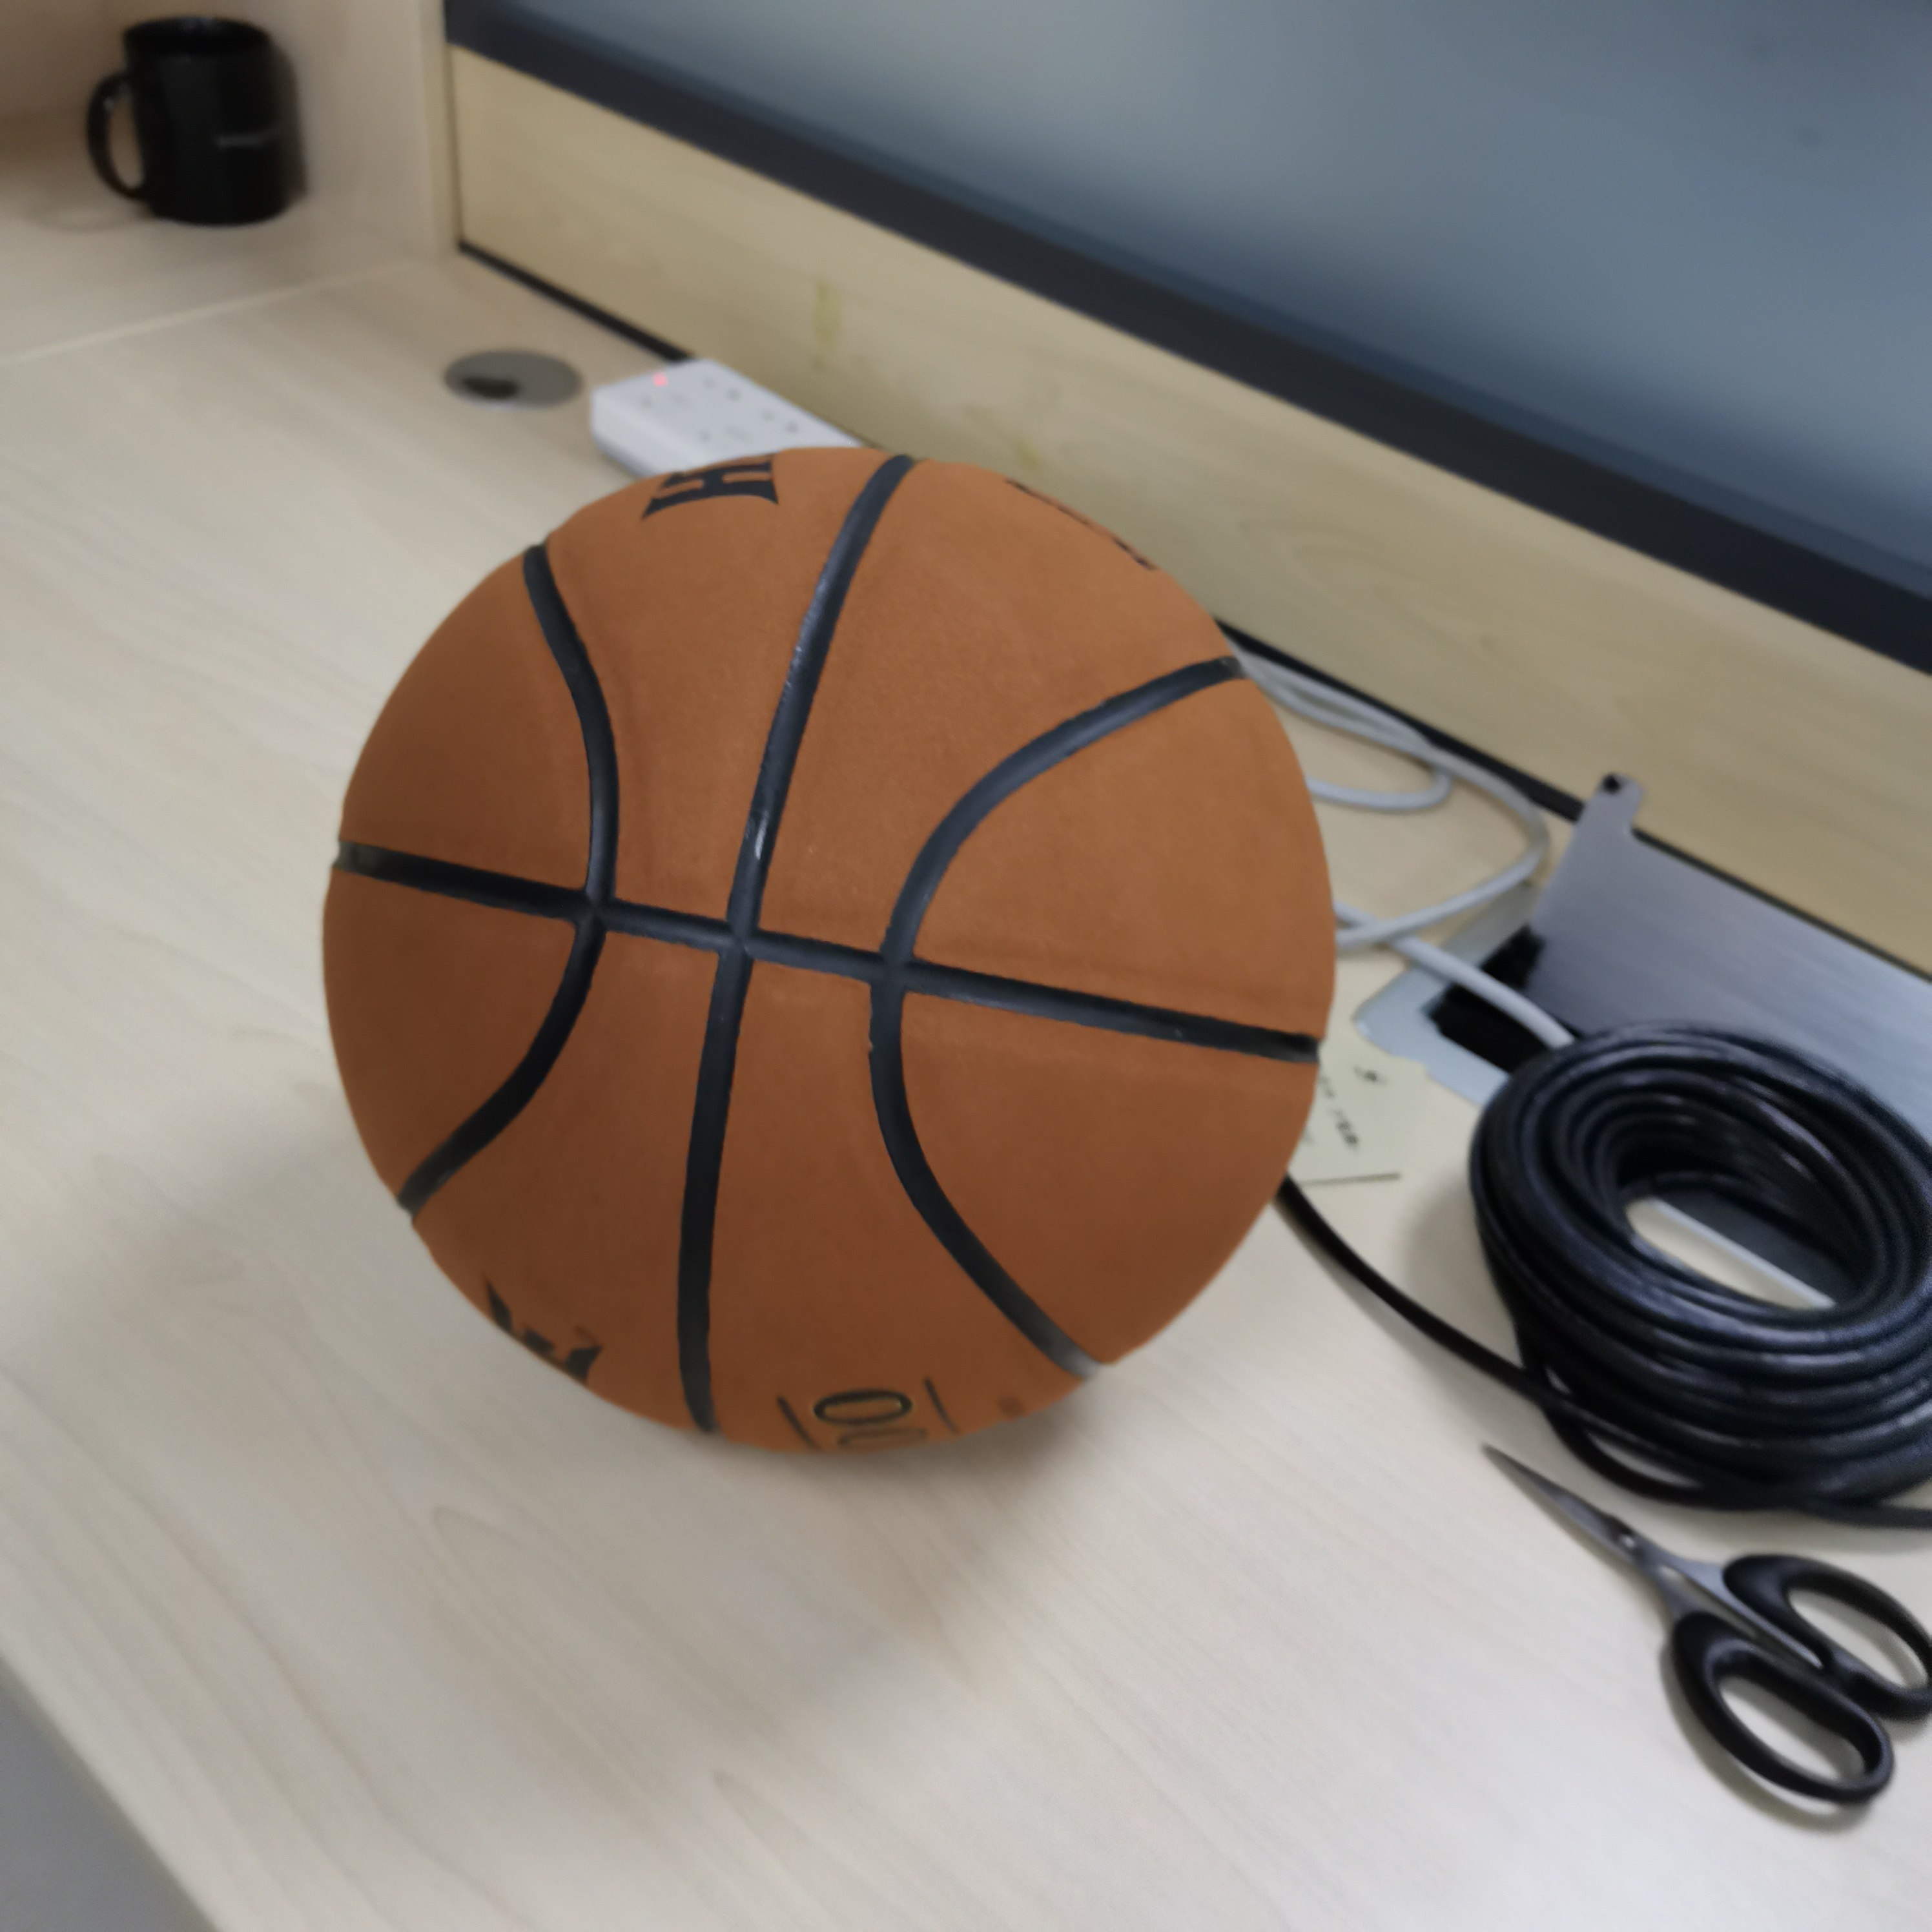basketball: (318, 442, 1345, 1461)
